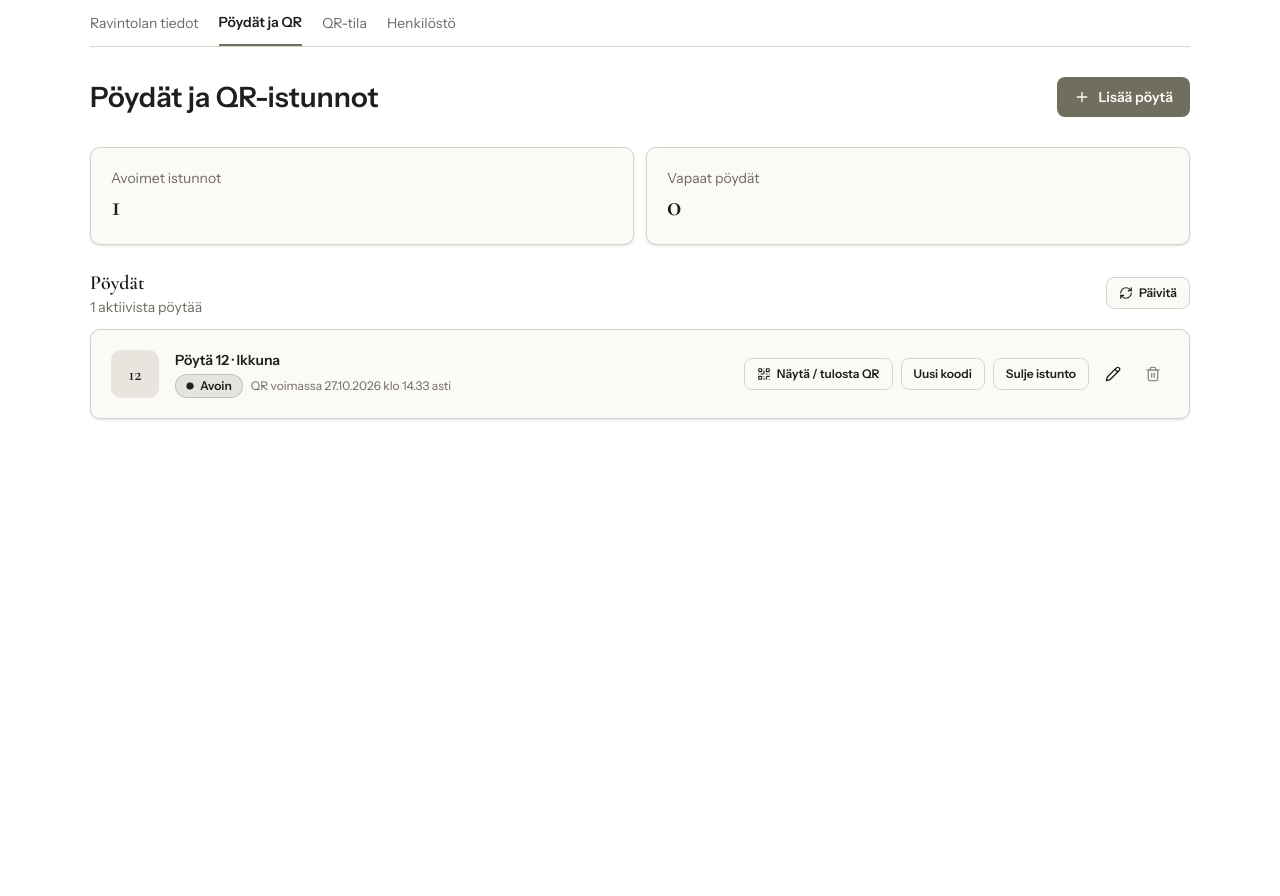
Test case: QR-01 tables screen › switches admin settings content without leaving the page
This screenshot has width=1280, height=896.
expect the navigation bar named "Asetusten välilehdet" is shown: met, box 90,12 -> 1190,47
Click the button "Henkilöstö".
click(421, 29)  # box 387,12 -> 456,46
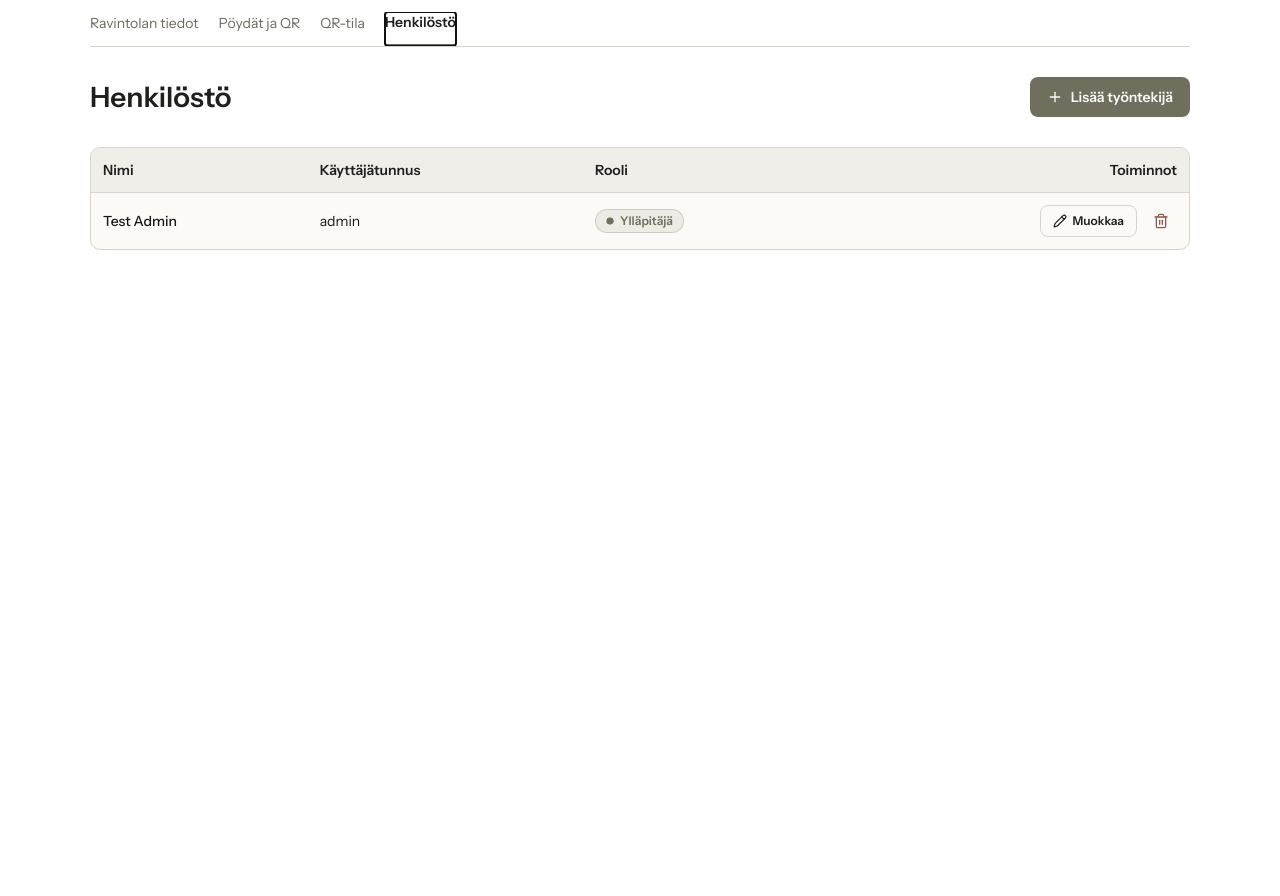
expect the text "Test Admin" is shown: met, box 91,192 -> 308,248
expect the heading "Pöydät ja QR-istunnot" is gone: met
Click the button "Ravintolan tiedot".
click(144, 29)  # box 90,12 -> 199,46
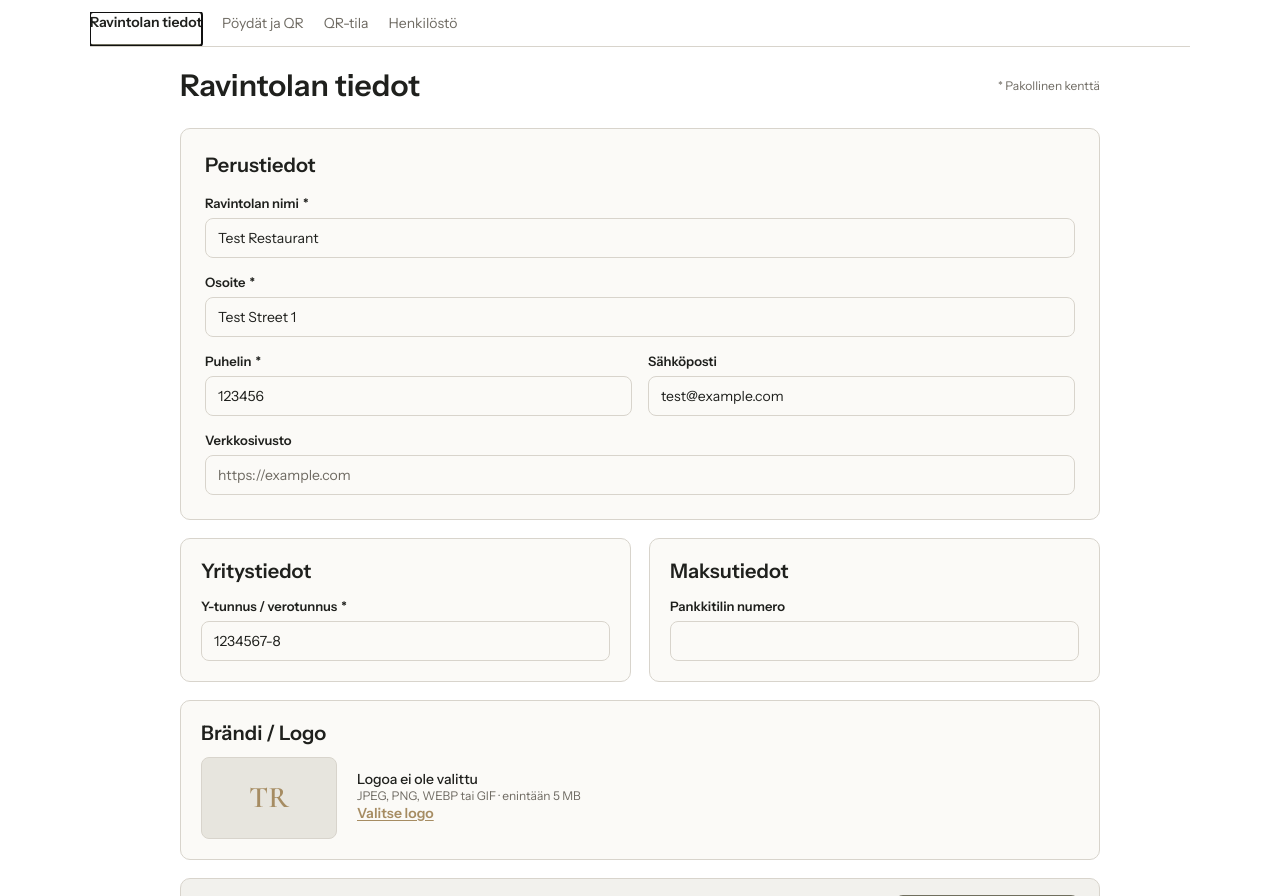
expect the heading "Perustiedot" is shown: met, box 205,153 -> 316,177
Click the button "QR-tila".
click(346, 29)  # box 324,12 -> 369,46
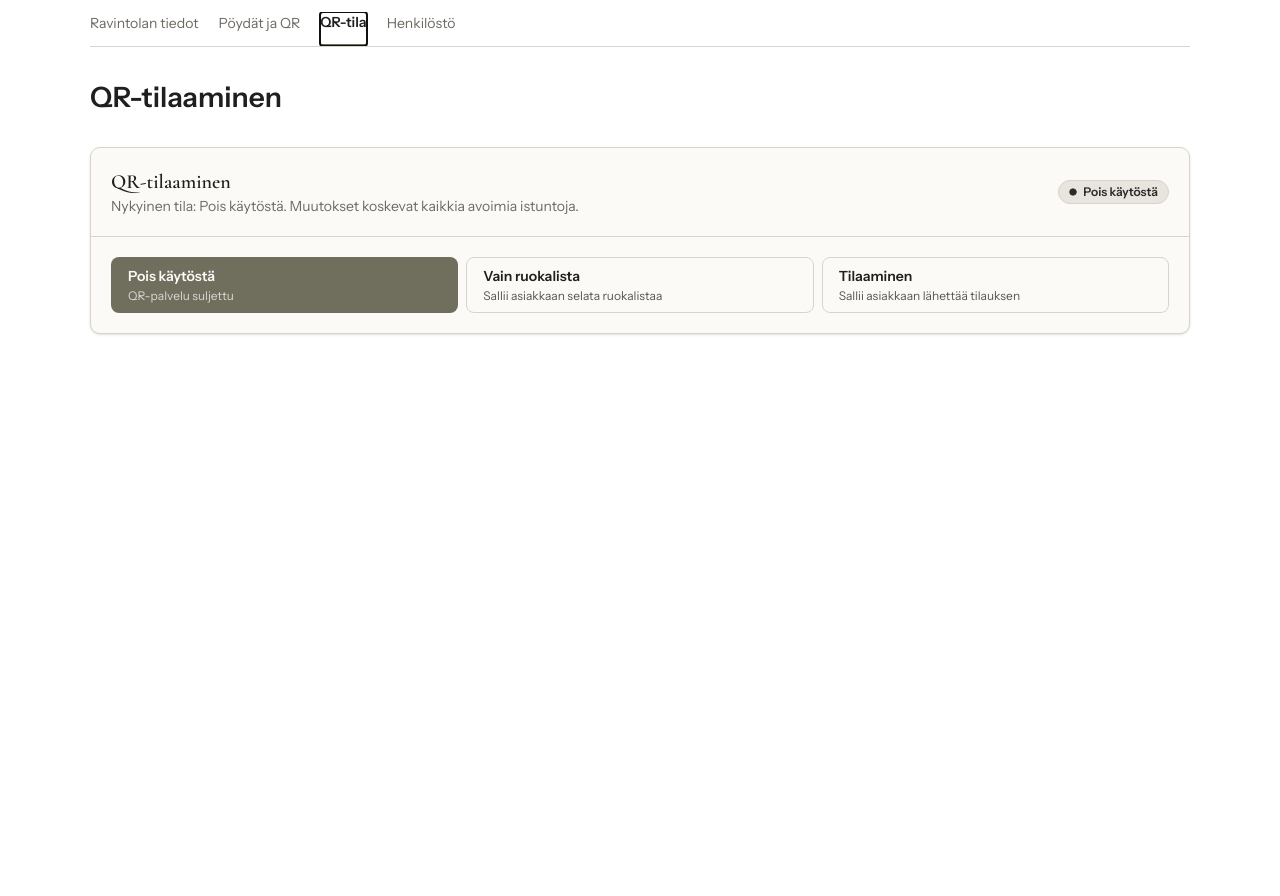
expect the heading "Pöydät ja QR-istunnot" is not shown: met
expect the 1st heading "QR-tilaaminen" is shown: met, box 90,80 -> 282,114
Click the button "Pöydät ja QR".
click(259, 29)  # box 219,12 -> 300,46
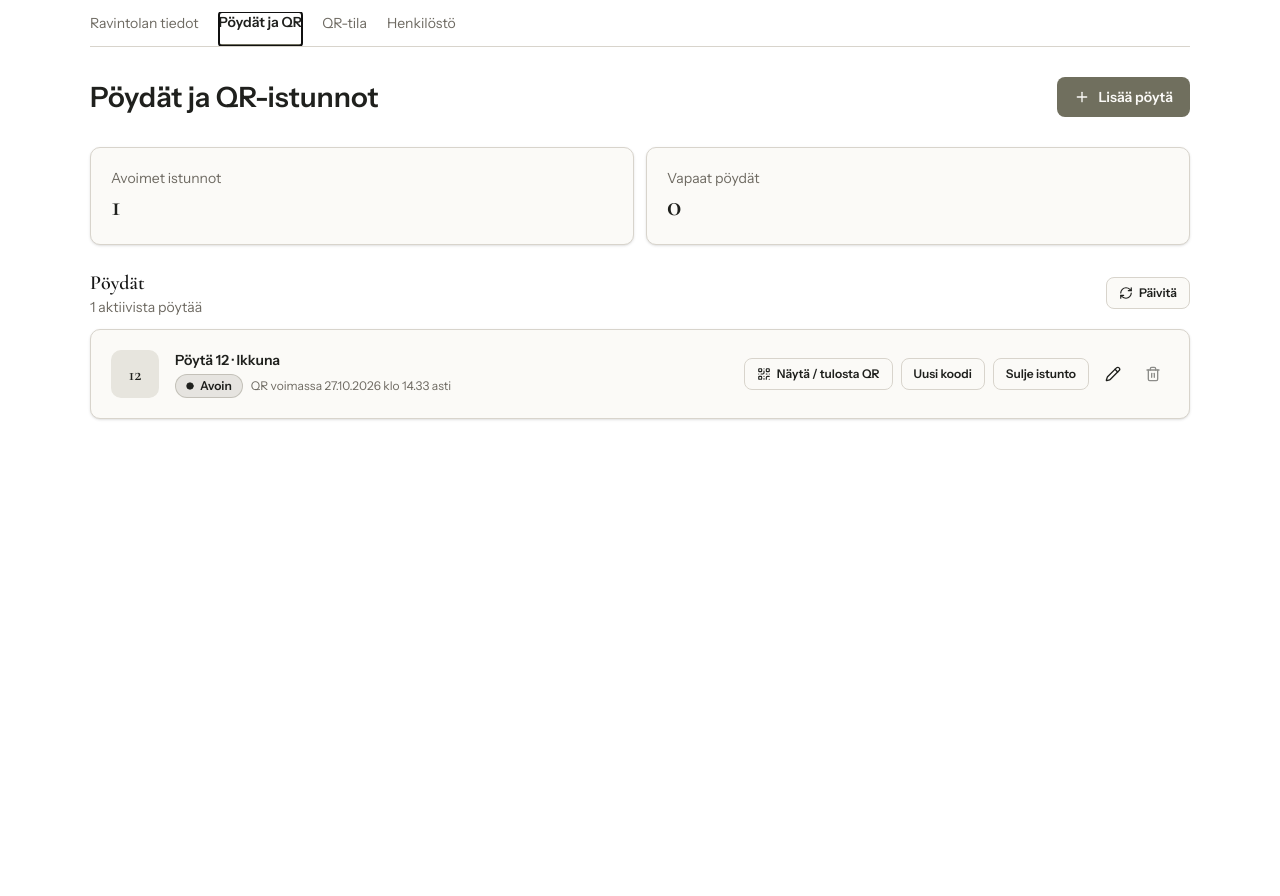
expect the heading "Pöydät ja QR-istunnot" is shown: met, box 90,80 -> 379,114
